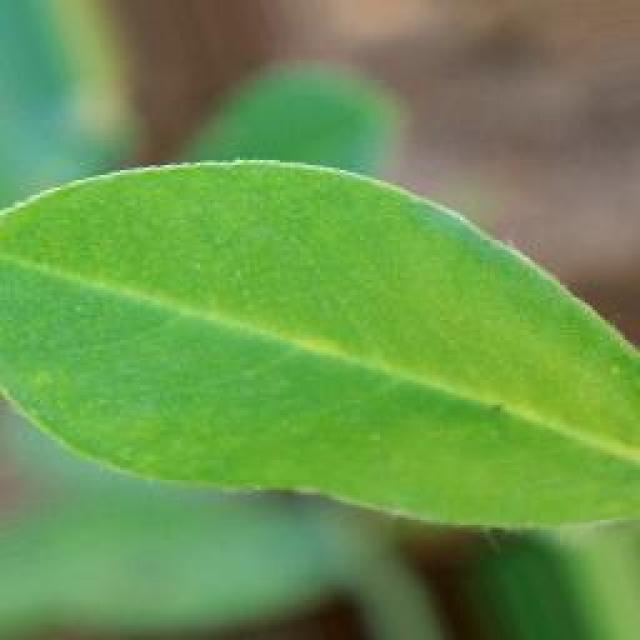Yellow_and_black_sigatoka: (5, 161, 640, 547)
